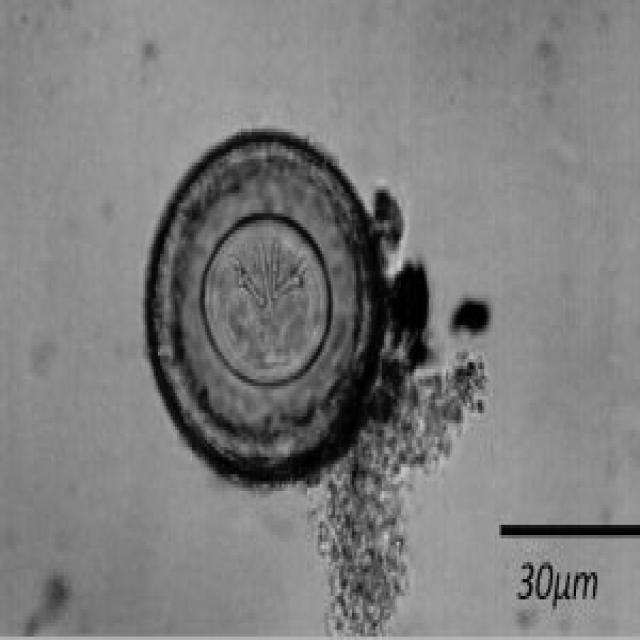Hymenolepis: (134, 118, 392, 494)
